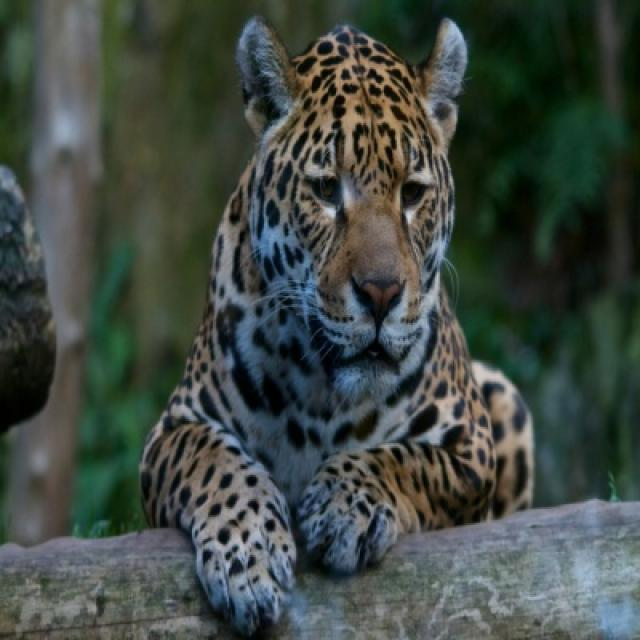Jaguar: (138, 14, 536, 638)
